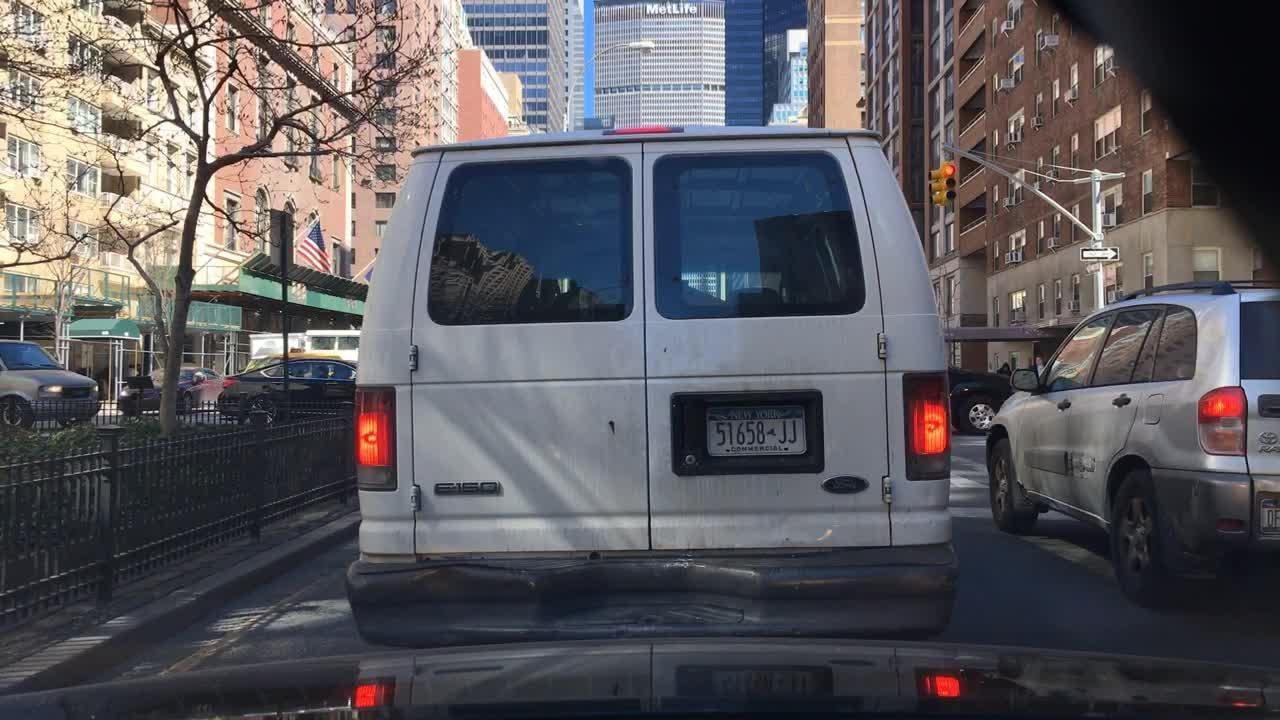Toyota: (1258, 430, 1280, 452)
ford: (814, 471, 875, 509)
